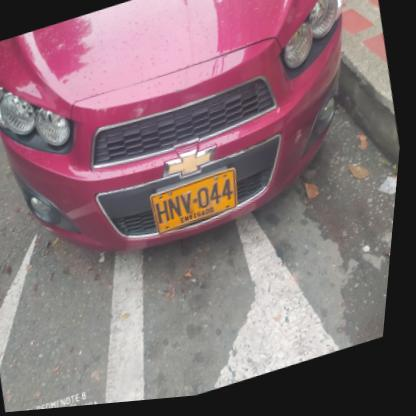placa: (145, 166, 253, 246)
